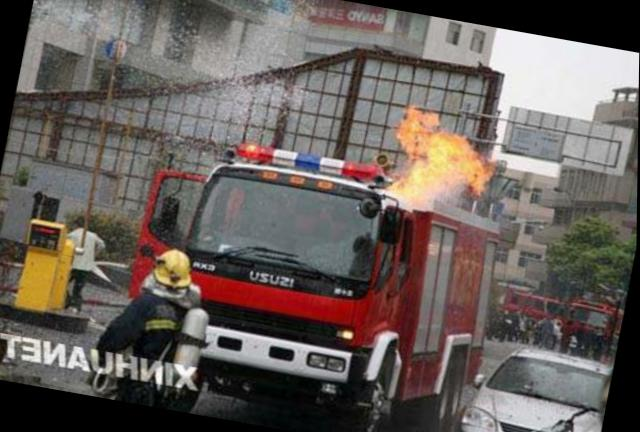fire: (370, 103, 507, 228)
